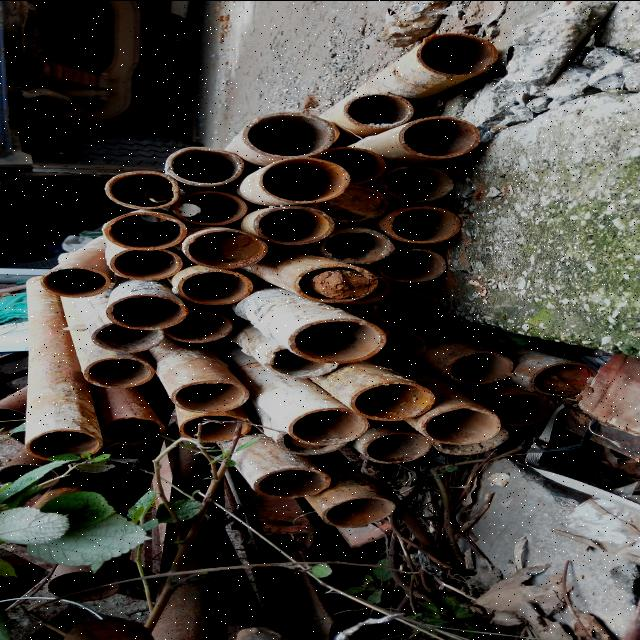pipe: (240, 110, 342, 158), (286, 317, 388, 363), (254, 156, 354, 202), (411, 30, 502, 76), (396, 114, 486, 160), (180, 226, 270, 268), (162, 144, 248, 187), (348, 380, 436, 421), (99, 210, 188, 250), (294, 262, 379, 302), (102, 168, 184, 209), (252, 205, 336, 245), (286, 405, 372, 444), (104, 292, 190, 330), (422, 404, 501, 444), (312, 183, 390, 223), (380, 163, 458, 203), (318, 226, 396, 264), (388, 203, 462, 243), (170, 189, 250, 225), (176, 269, 256, 305), (170, 377, 252, 412), (340, 92, 416, 128), (374, 246, 450, 282), (78, 354, 158, 388), (318, 145, 387, 184), (265, 344, 344, 378), (23, 428, 104, 461), (320, 494, 398, 528), (250, 466, 332, 498), (106, 248, 184, 280), (487, 391, 558, 426), (45, 569, 124, 600), (372, 290, 444, 324), (39, 266, 115, 298), (88, 322, 166, 353), (445, 349, 514, 384), (528, 361, 597, 396), (164, 310, 235, 344), (99, 413, 166, 448), (360, 430, 432, 462), (178, 412, 254, 442), (433, 426, 511, 455), (373, 328, 429, 364), (276, 430, 350, 456), (337, 277, 397, 306), (1, 463, 62, 489)
